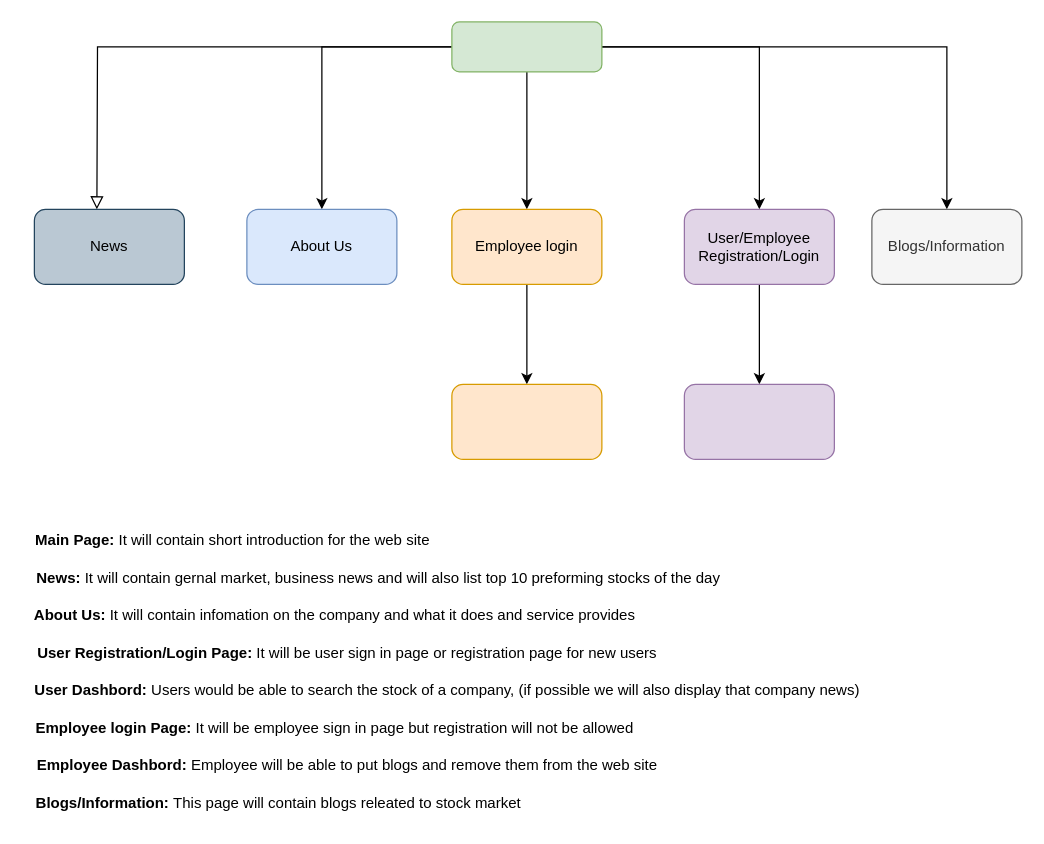
Image size: 1044x844. Some labels were removed from this diagram. The shapes that lost their labels are listed below. From the top down, each one's centre as x and y in pixels, then its label:
[526,46]: Main Page
[526,421]: Employee Dashbord
[758,421]: User Dashbord
